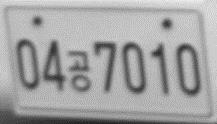0: (121, 41, 148, 93), (175, 42, 201, 95), (15, 37, 40, 89)
1: (147, 42, 174, 94)
4: (41, 39, 67, 91)
7: (92, 39, 118, 92)
공: (66, 48, 92, 92)
